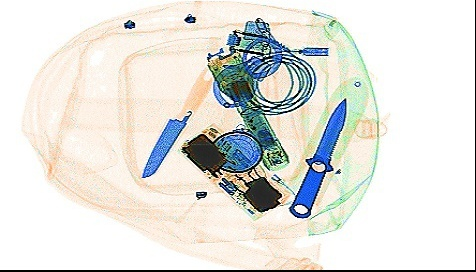handcuffs: (211, 15, 283, 108)
knife: (139, 57, 224, 180), (285, 96, 348, 219)
